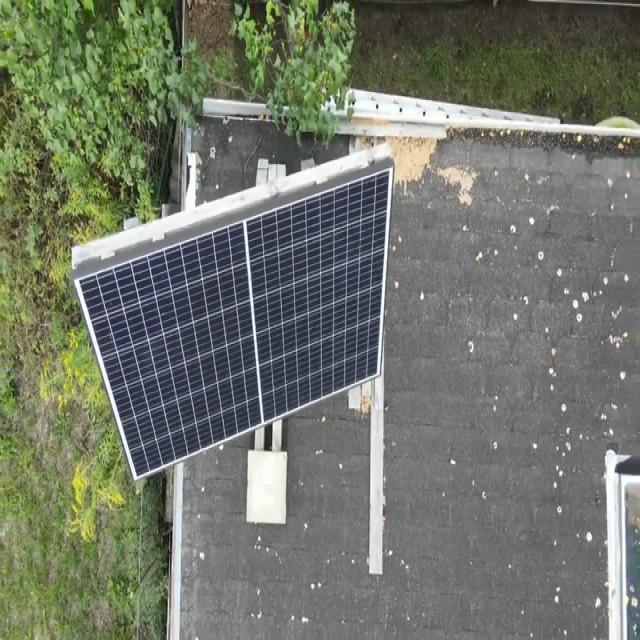Normal Solar Panel: (78, 170, 391, 477)
